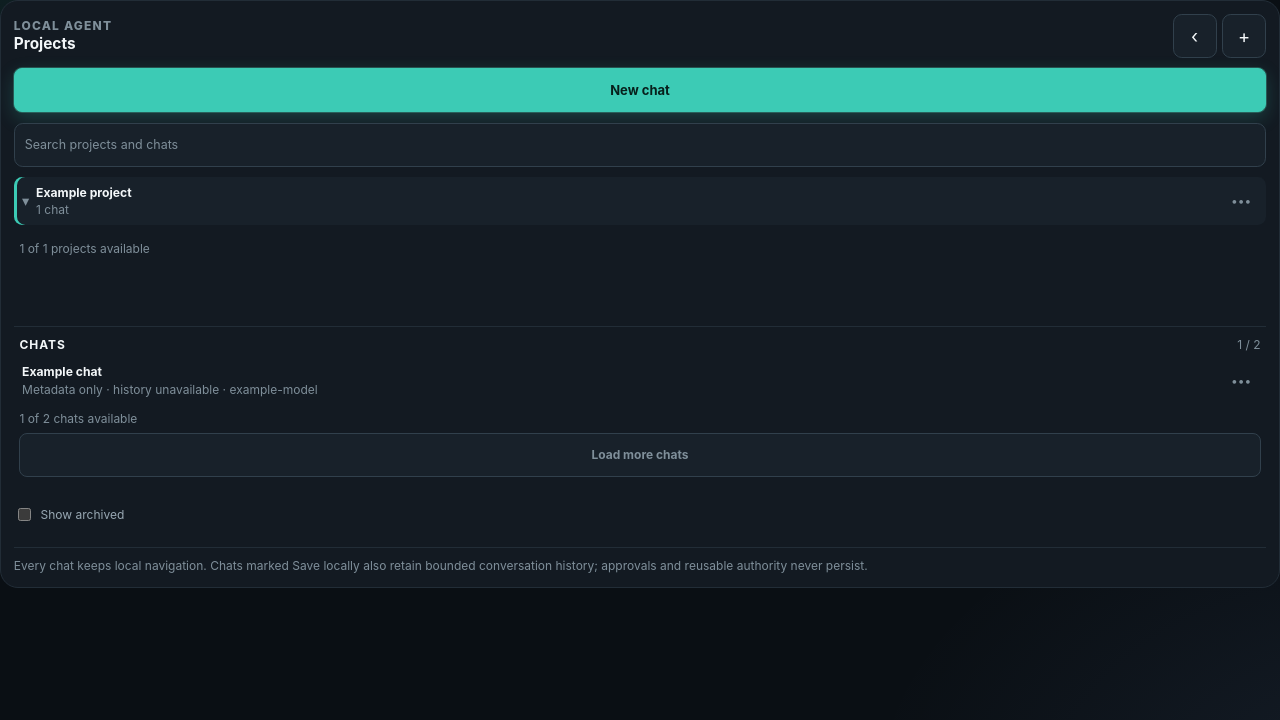
Test: AgentCatalogRail › keeps a loaded chat prefix when a stale snapshot continuation is refused
This screenshot has width=1280, height=720.
Expected: the text "1 of 2 chats available" is shown, [19, 410, 137, 426]
Click the button "Load more chats".
click(640, 455)  # box [19, 433, 1261, 477]
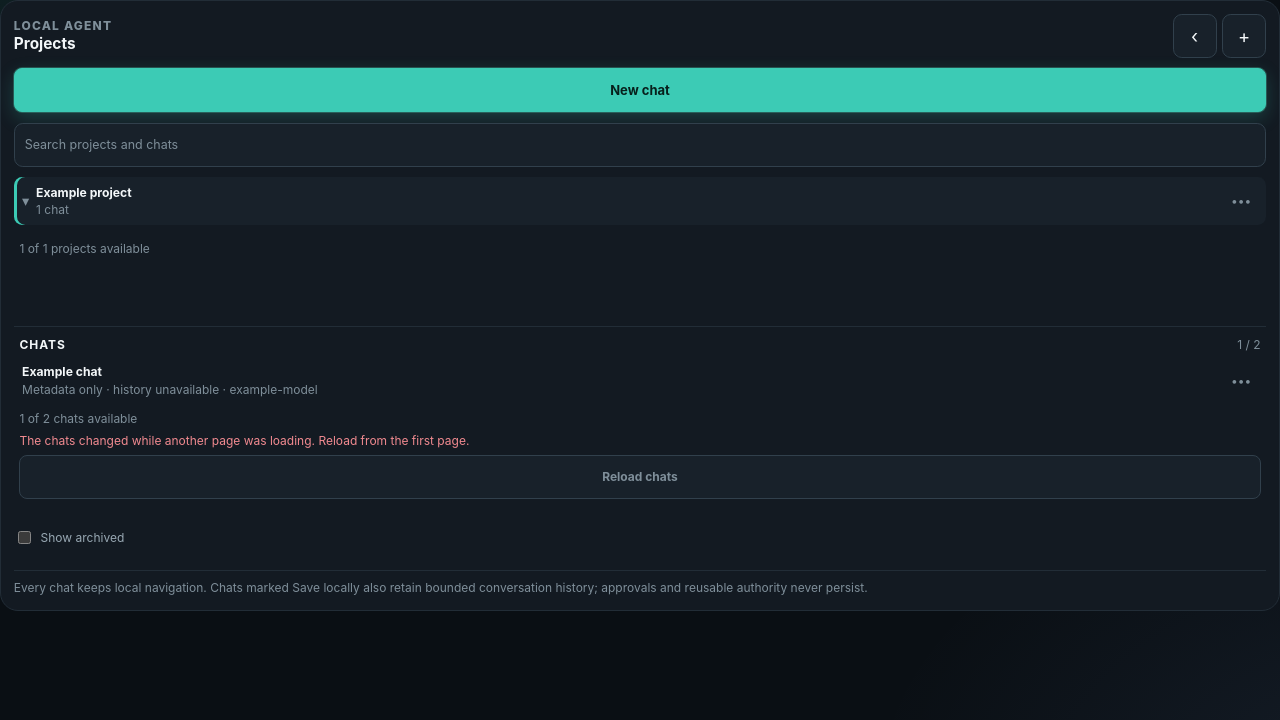
Expected: the button with aria-label "Example chat ·" is shown, [14, 357, 1219, 405]
Expected: the message shows "The chats changed while another page was loading", [19, 433, 469, 448]
